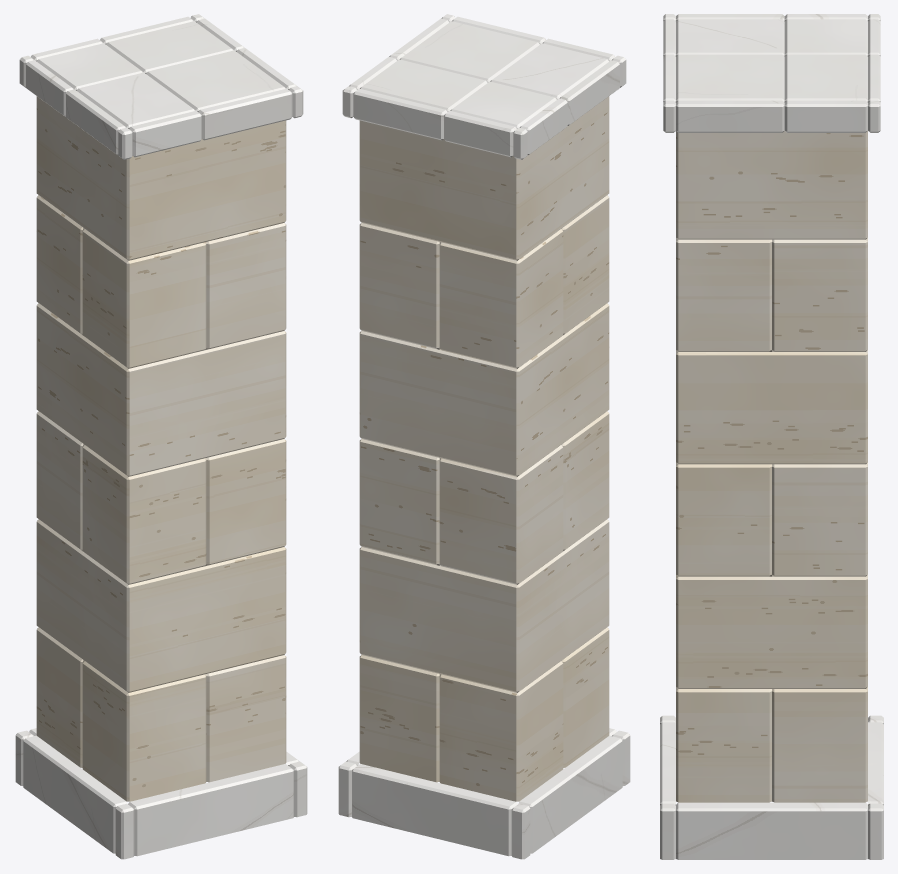
The picture shows the model from 3 angles, left to right: view 1: azimuth 30°, elevation 25°; view 2: azimuth 150°, elevation 25°; view 3: azimuth 270°, elevation 25°; orthographic projection. The views are drawn at different scales.
Parts seen in each view (by area): view 1: Mesh_arcade_pier; view 2: Mesh_arcade_pier; view 3: Mesh_arcade_pier.
Boxes of the visible parts, x1,y1,x2,y2 form: Mesh_arcade_pier: [15, 14, 307, 859]; Mesh_arcade_pier: [338, 14, 630, 859]; Mesh_arcade_pier: [660, 14, 883, 859].
Size of the model in its own units: 1.4 by 5.2 by 1.4.
1 material, 1 textured.
